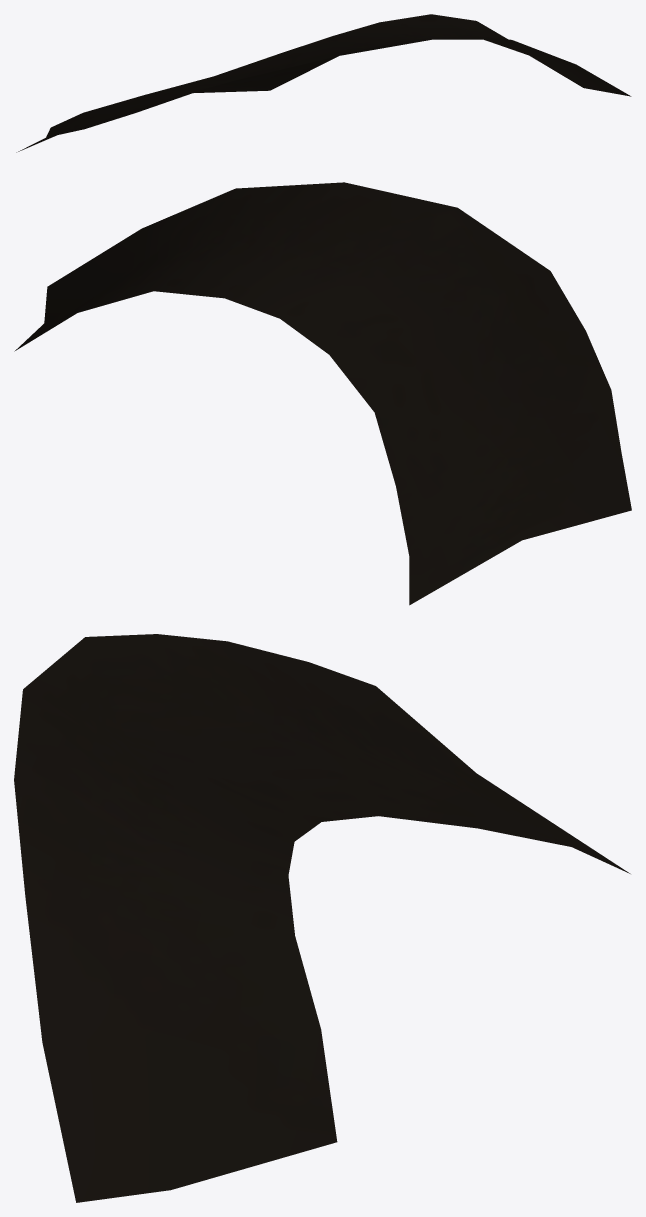
The model's file is Lash_RUp.fbx.
3 renders of one model, top to bottom at view 1: azimuth 30°, elevation 25°; view 2: azimuth 150°, elevation 25°; view 3: azimuth 270°, elevation 25°, orthographic. The views are drawn at different scales.
Visible parts, largest first — view 1: LashR_Up; view 2: LashR_Up; view 3: LashR_Up.
Boxes of the visible parts, left/top/right/bottom form: LashR_Up: left=16, top=14, right=631, bottom=152; LashR_Up: left=14, top=182, right=631, bottom=605; LashR_Up: left=14, top=634, right=630, bottom=1202.
Size of the model in its own units: 3.61 by 1.03 by 1.93.
Materials: 1 (1 with a texture image).
